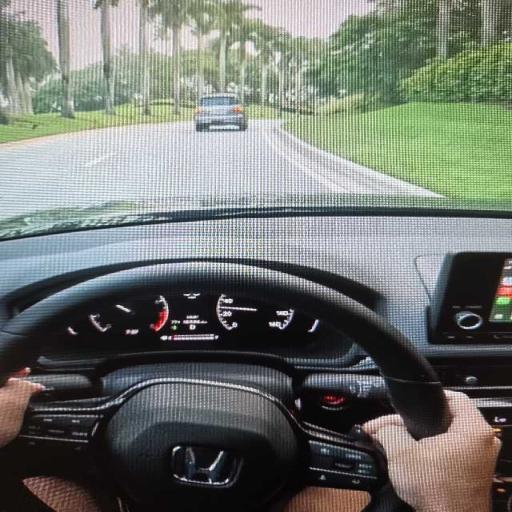car: (195, 94, 247, 131)
lane: (0, 121, 419, 216)
person: (365, 392, 500, 511)
